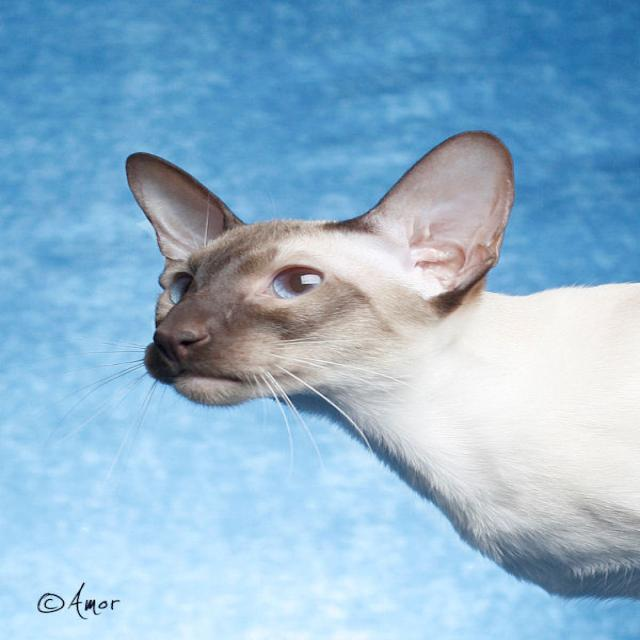Siamese: (118, 123, 520, 419)
